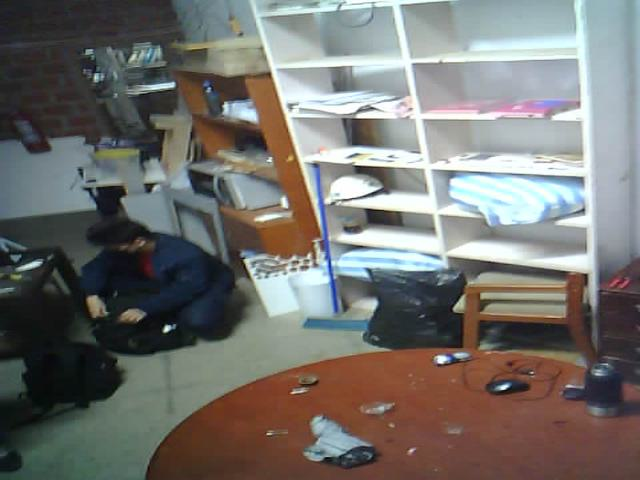person: (72, 204, 258, 362)
